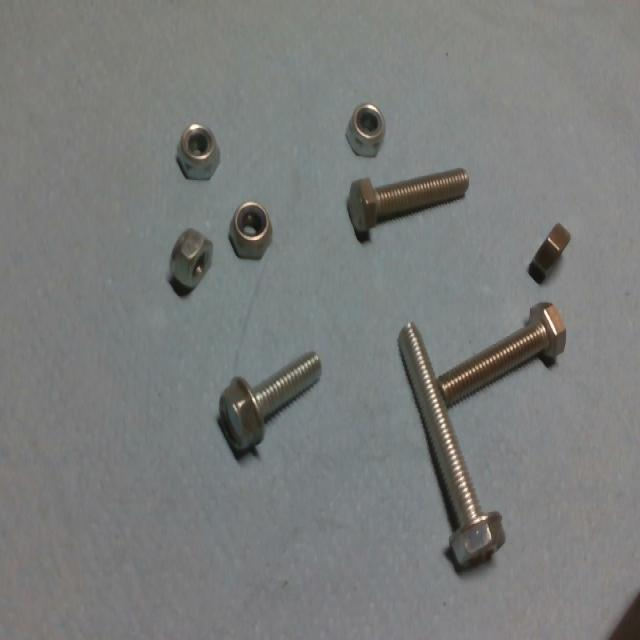Bolt: (390, 310, 509, 570), (425, 287, 576, 416), (219, 335, 332, 457), (346, 166, 481, 243)
Nut: (161, 220, 225, 298), (226, 194, 278, 268), (172, 117, 228, 185), (526, 217, 578, 287), (343, 102, 393, 160)
